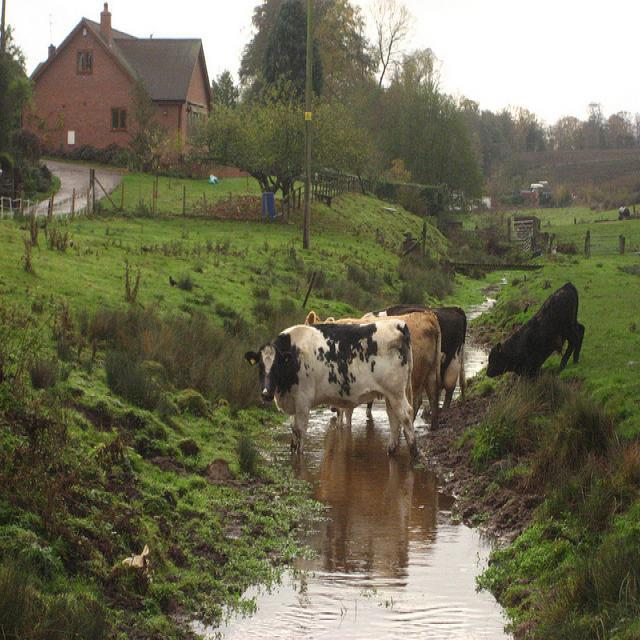cow: (243, 316, 417, 455), (315, 303, 466, 427), (304, 309, 440, 427), (484, 277, 582, 376)
